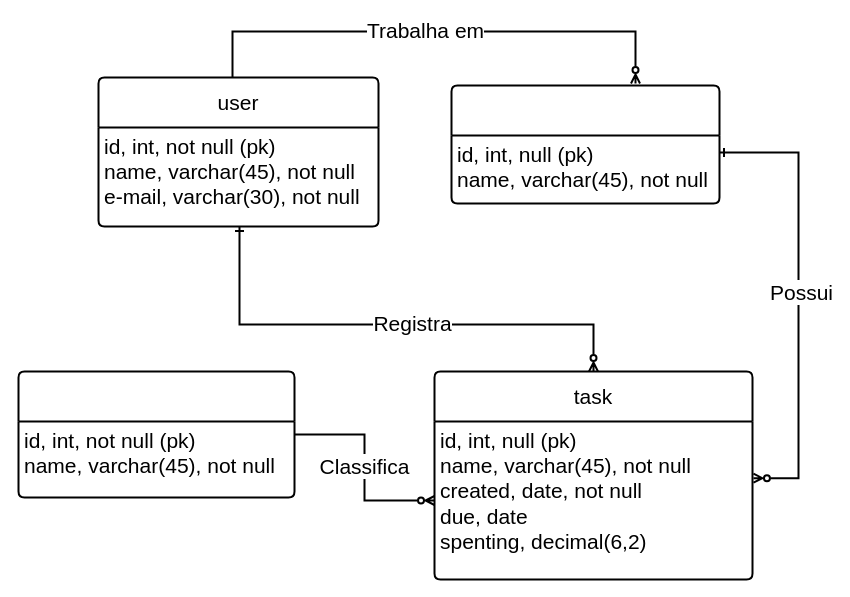
This 850x597 diagram has some shape labels left out. The box of each missing label's shape, as (x1, y1, x2, y2) in pixels:
priority: (17, 370, 295, 498)
project: (450, 84, 720, 204)
